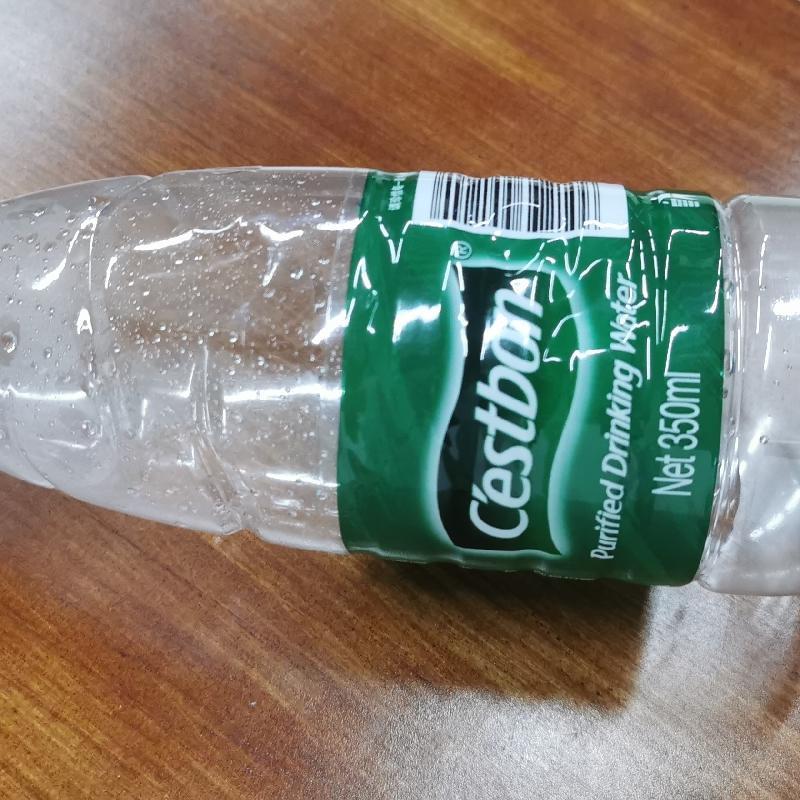bottles: (6, 162, 799, 606)
